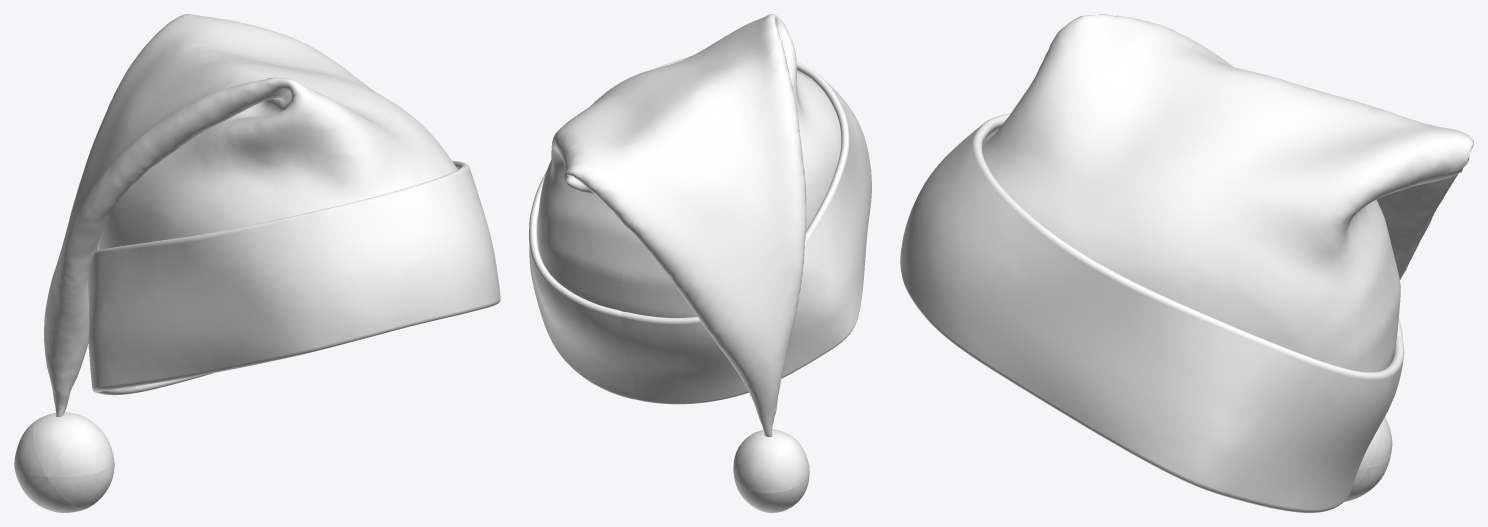
The model's file is jingleBells.glb.
The picture shows the model from 3 angles, left to right: view 1: azimuth 30°, elevation 25°; view 2: azimuth 150°, elevation 25°; view 3: azimuth 270°, elevation 25°; orthographic projection. The views are drawn at different scales.
Parts seen in each view (by area): view 1: jingleBellsss; view 2: jingleBellsss; view 3: jingleBellsss.
Boxes of the visible parts, box(x1,y1,x2,y2) form: jingleBellsss: box(14, 14, 500, 512); jingleBellsss: box(529, 14, 871, 512); jingleBellsss: box(900, 14, 1473, 512).
Bounding box in the file's own units: 2.09 × 2.47 × 2.36.
1 material, 1 textured.
